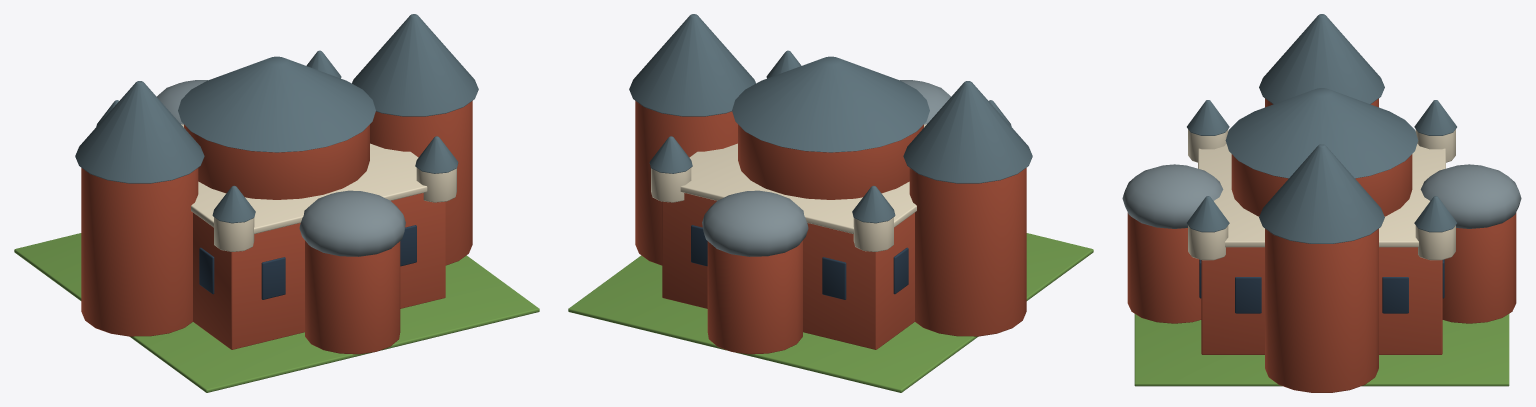
File: uraniborg.glb
The picture shows the model from 3 angles, left to right: view 1: azimuth 30°, elevation 25°; view 2: azimuth 150°, elevation 25°; view 3: azimuth 270°, elevation 25°; orthographic projection. The views are drawn at different scales.
Parts seen in each view (by area): view 1: uraniborg; view 2: uraniborg; view 3: uraniborg.
Part boxes in pixels (box(x1,y1,x2,y2)): uraniborg: box(14, 14, 539, 392); uraniborg: box(568, 14, 1093, 392); uraniborg: box(1122, 14, 1521, 392).
Bounding box in the file's own units: 6.45 × 3.75 × 5.96.
